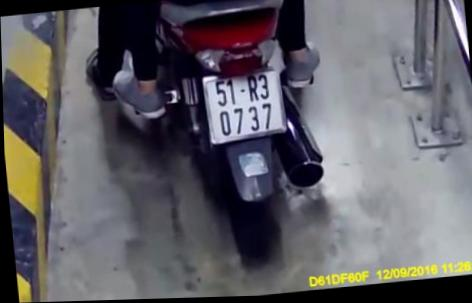LP: (198, 67, 289, 147)
